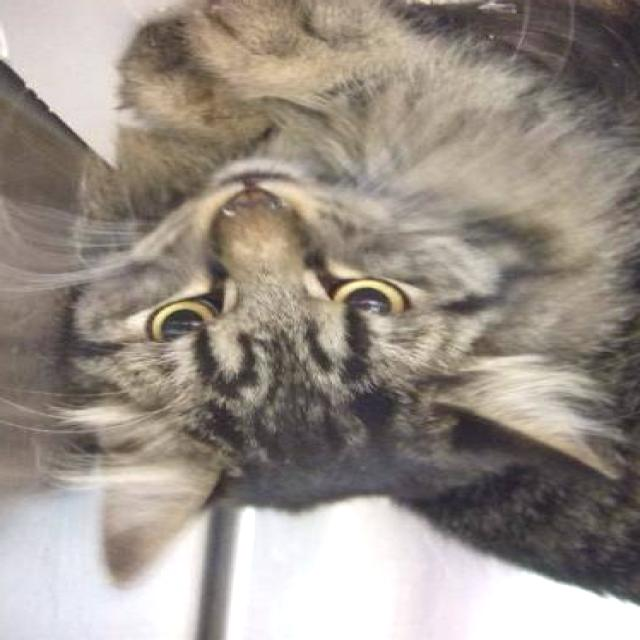Kucing: (34, 23, 616, 609)
